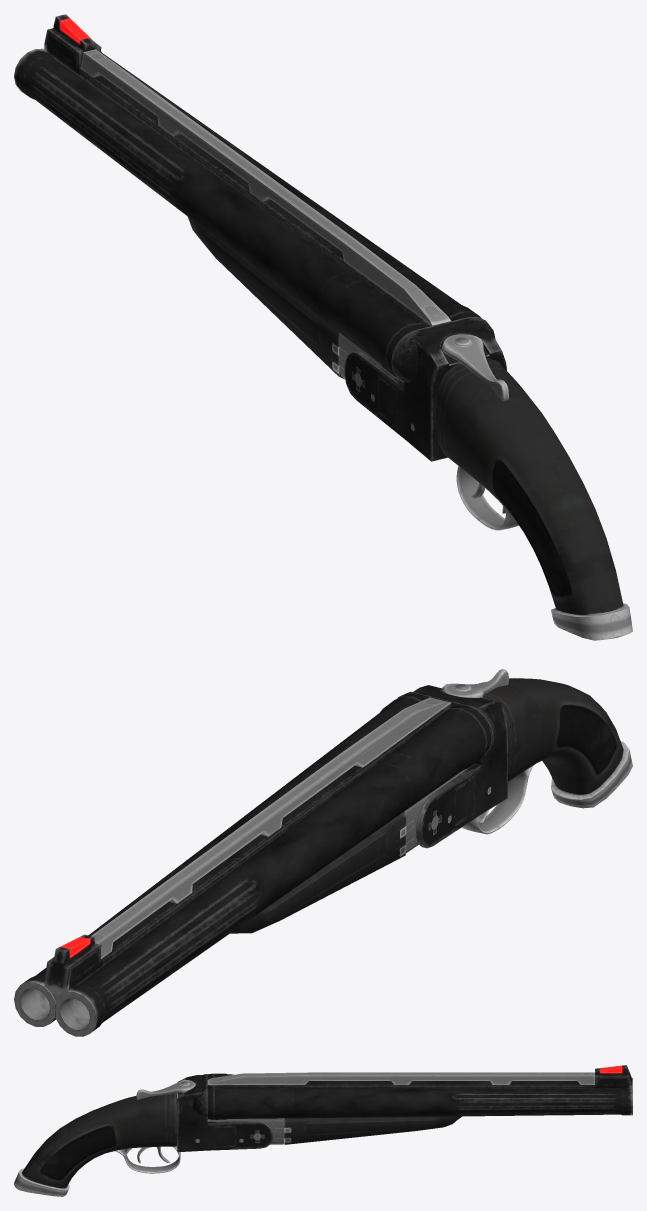
File: shotgun.glb
3 views of the same model, one above another, from view 1: azimuth 30°, elevation 25°; view 2: azimuth 150°, elevation 25°; view 3: azimuth 270°, elevation 25° (orthographic). The views are drawn at different scales.
Visible parts, largest first — view 1: shotgun; view 2: shotgun; view 3: shotgun.
Boxes of the visible parts, x1,y1,x2,y2 form: shotgun: [14, 14, 632, 640]; shotgun: [14, 669, 632, 1036]; shotgun: [14, 1065, 632, 1196].
Size of the model in its own units: 0.069 by 0.1482 by 0.66.
Materials: 1 (1 with a texture image).
